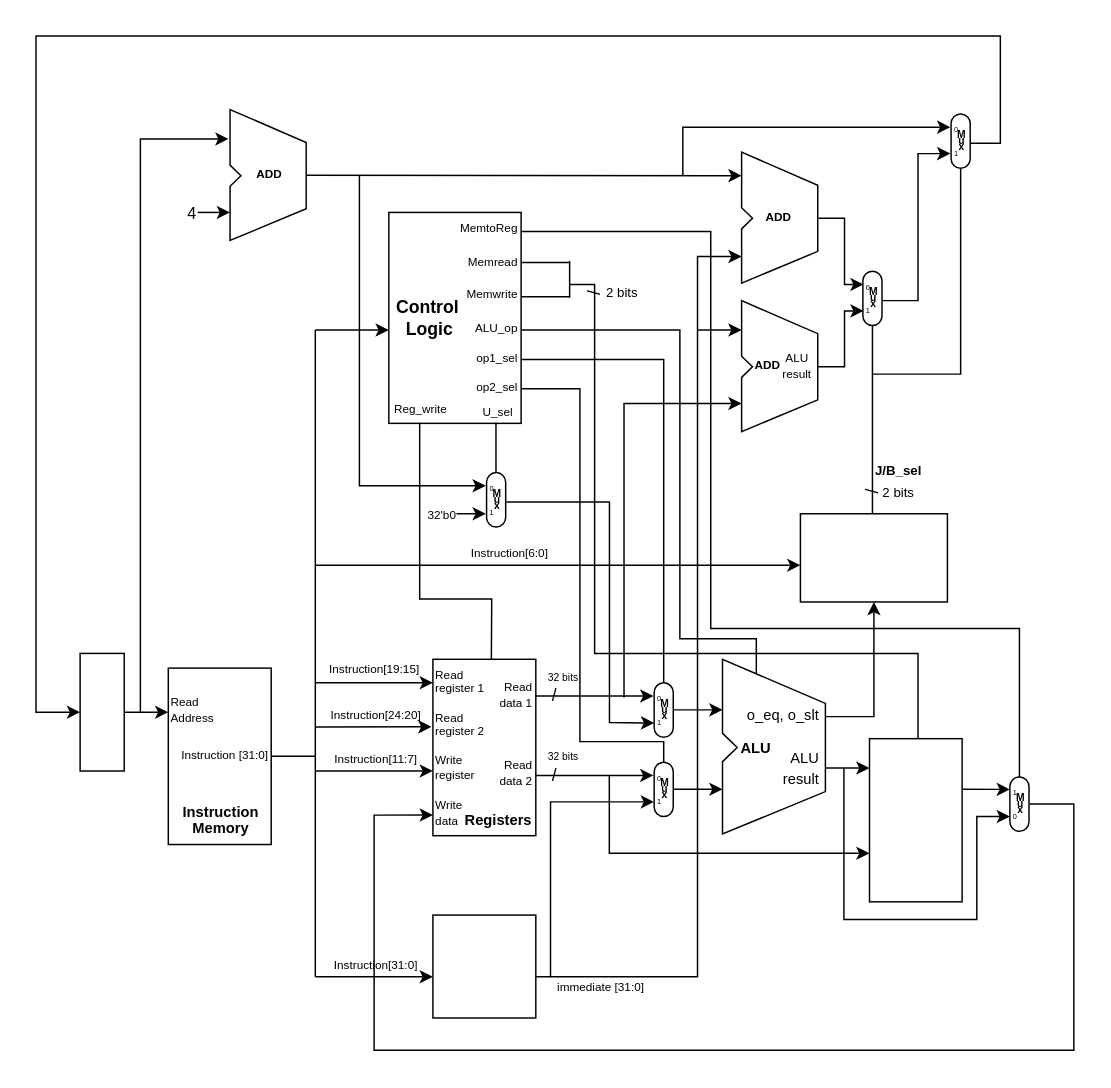
Image size: 1111x1088. Some labels were removed from this diagram. Here are the shapes that lost their labels. From the top down, the centre of each, then its label:
point (873, 557): Jump / Branch Decoder
point (101, 711): PC
point (915, 819): Address Read Data Write data Data Memory
point (483, 966): imm.v Immediate Decoder
